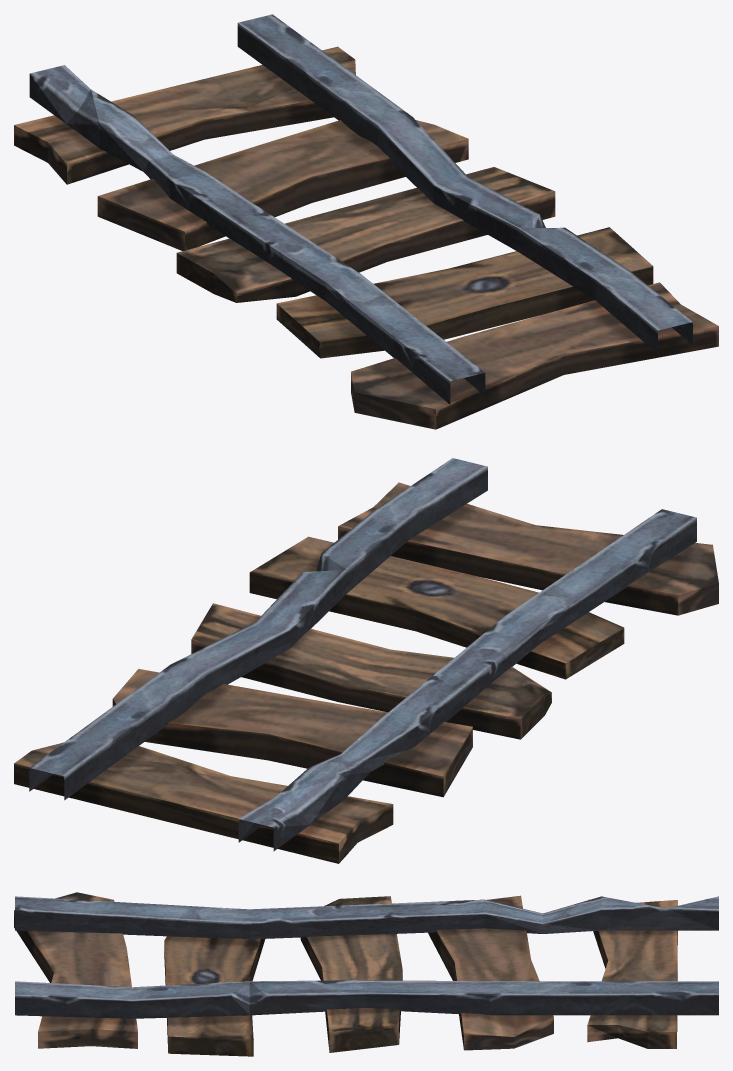
File: bandit_track_straight_01.fbx
The picture shows the model from 3 angles, top to bottom: view 1: azimuth 30°, elevation 25°; view 2: azimuth 150°, elevation 25°; view 3: azimuth 270°, elevation 25°; orthographic projection. The views are drawn at different scales.
Visible parts, largest first — view 1: obj0.717; view 2: obj0.717; view 3: obj0.717.
Part boxes in pixels (x1,y1,x2,y2): obj0.717: (14,14,718,429); obj0.717: (14,458,718,863); obj0.717: (14,892,718,1056).
Bounding box in the file's own units: 1.98 × 0.2322 × 4.01.
